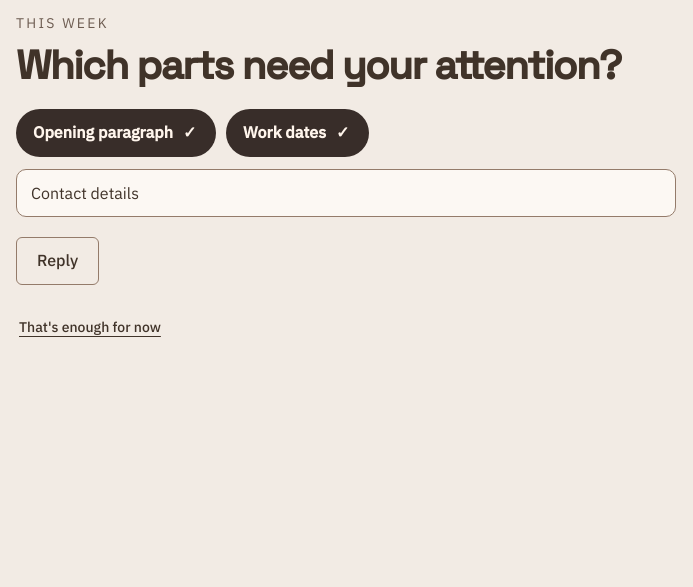
Test: preserves selected labels and Other as words after a confirmed restart
Click the button "Reply" at [58, 261], box [16,237,99,285]
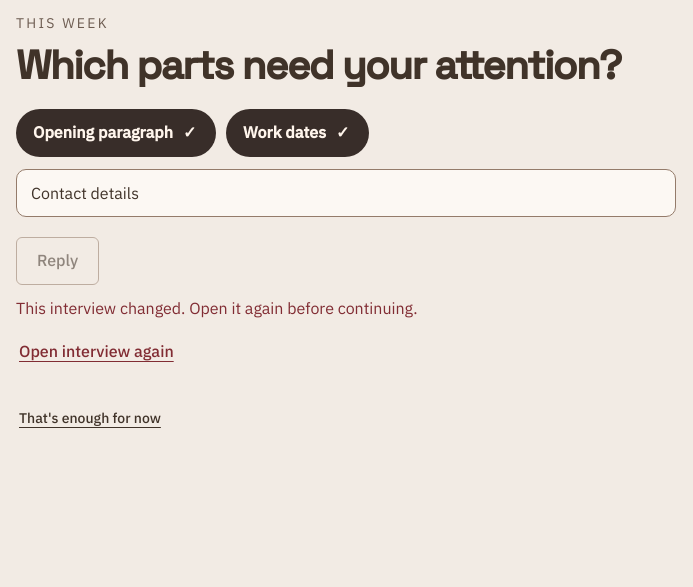
Click the button "Open interview again" at [96, 352], box [16,329,177,375]
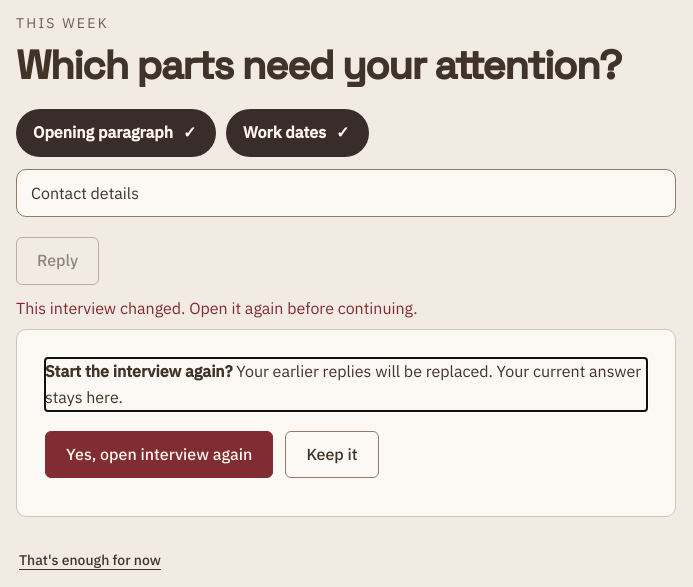
Click the button "Yes, open interview again" at [159, 455], box [45,431,273,478]
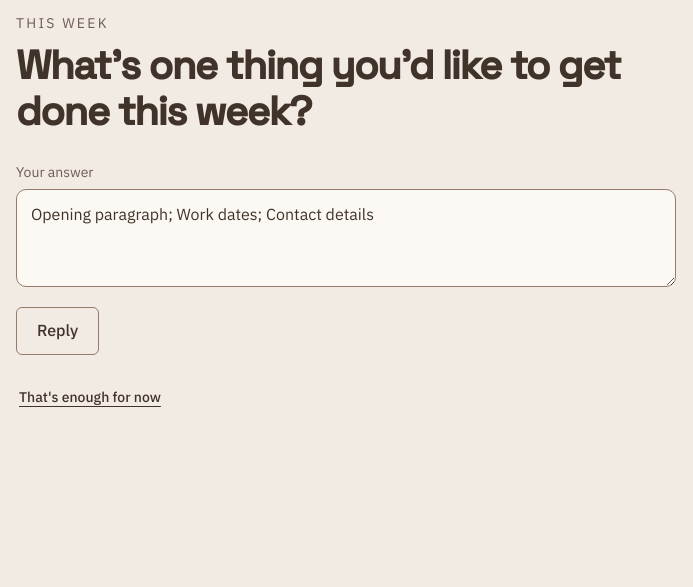
Result: the text box labelled "Your answer" holds "Opening paragraph; Work dates; Contact details" at [16,189,676,287]
